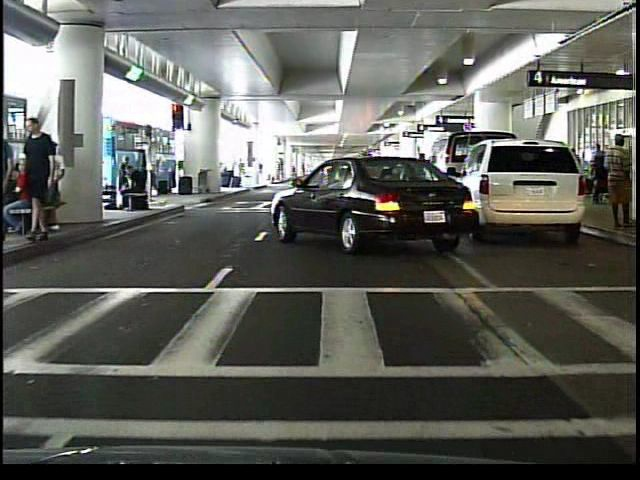person: (601, 131, 633, 232), (114, 161, 149, 213)
